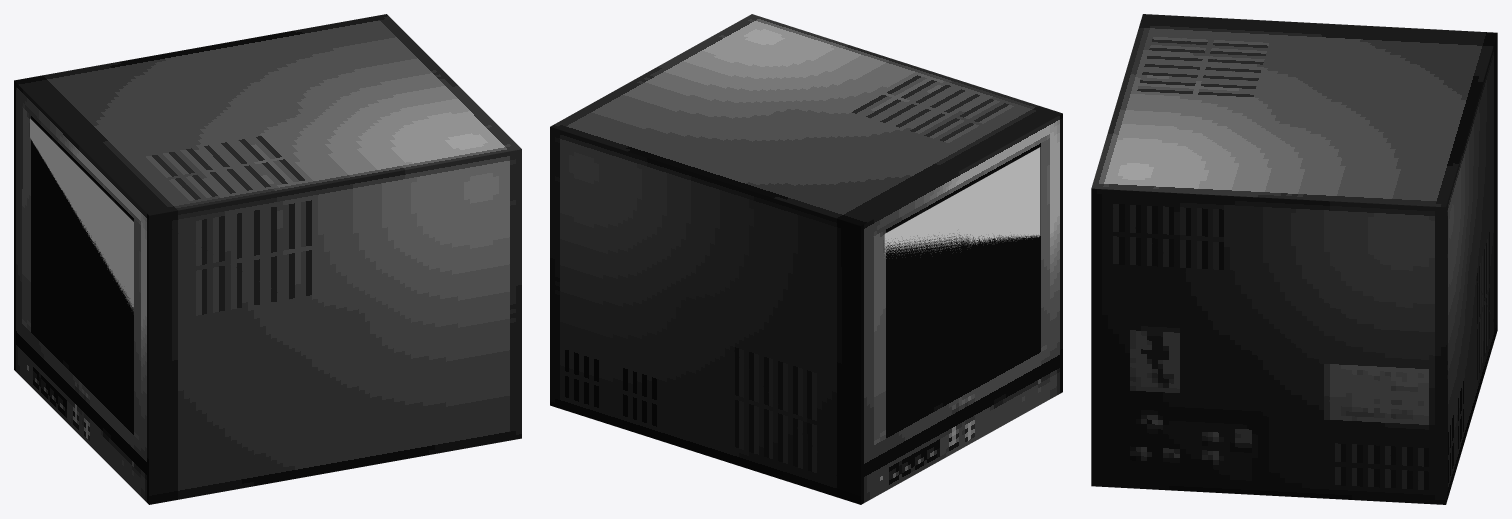
The model's file is primary_078.glb.
3 views of the same model, side by side, from view 1: azimuth 30°, elevation 25°; view 2: azimuth 150°, elevation 25°; view 3: azimuth 270°, elevation 25° (orthographic). The views are drawn at different scales.
Parts seen in each view (by area): view 1: Object; view 2: Object; view 3: Object.
Part boxes in pixels (x1,y1,x2,y2): Object: (14, 14, 521, 504); Object: (550, 14, 1062, 504); Object: (1091, 14, 1497, 504).
Size of the model in its own units: 0.8528 by 0.6122 by 0.7575.
Materials: 7 (7 with a texture image).
